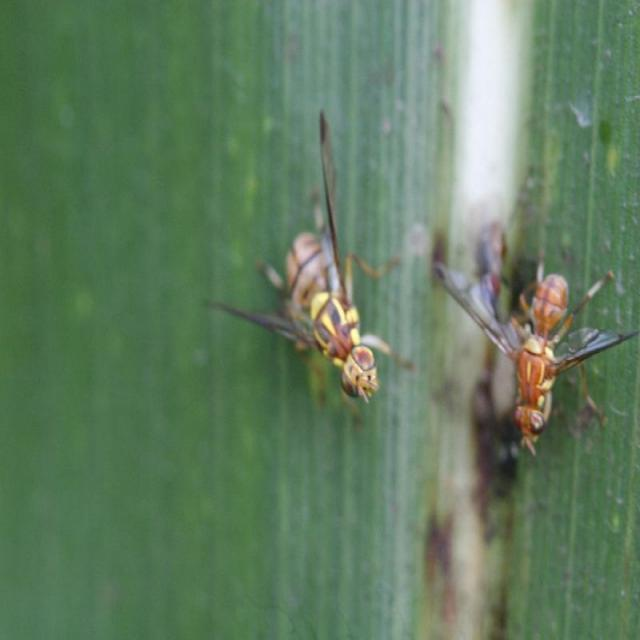Fruit fly: (199, 99, 424, 413), (422, 254, 634, 470)
